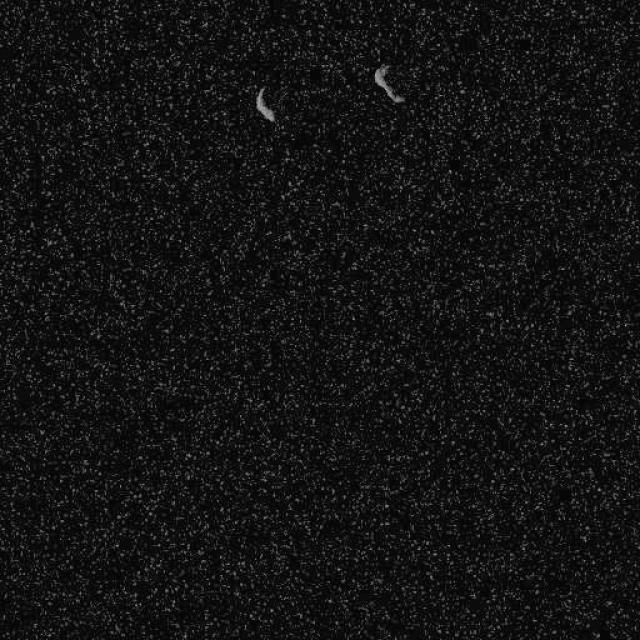D2: (373, 63, 405, 104), (254, 85, 276, 123)
